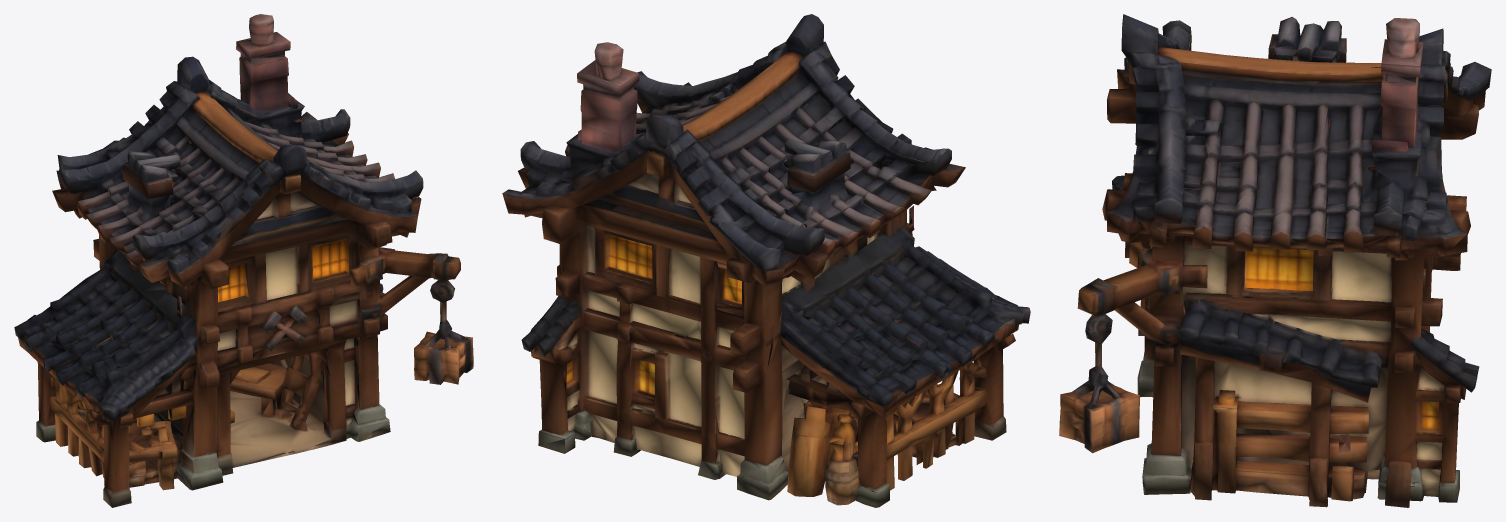
The picture shows the model from 3 angles, left to right: view 1: azimuth 30°, elevation 25°; view 2: azimuth 150°, elevation 25°; view 3: azimuth 270°, elevation 25°; orthographic projection. The views are drawn at different scales.
Visible parts, largest first — view 1: compact__builders_guild__neural_lod, compact__builders_guild__neural_pendulum; view 2: compact__builders_guild__neural_lod; view 3: compact__builders_guild__neural_lod, compact__builders_guild__neural_pendulum.
Boxes of the visible parts, x1,y1,x2,y2 form: compact__builders_guild__neural_lod: (14, 14, 460, 507); compact__builders_guild__neural_pendulum: (414, 282, 473, 384); compact__builders_guild__neural_lod: (502, 14, 1030, 507); compact__builders_guild__neural_lod: (1077, 14, 1491, 507); compact__builders_guild__neural_pendulum: (1059, 314, 1140, 453).
Size of the model in its own units: 1 by 0.9545 by 0.7995.
1 material, 1 textured.
